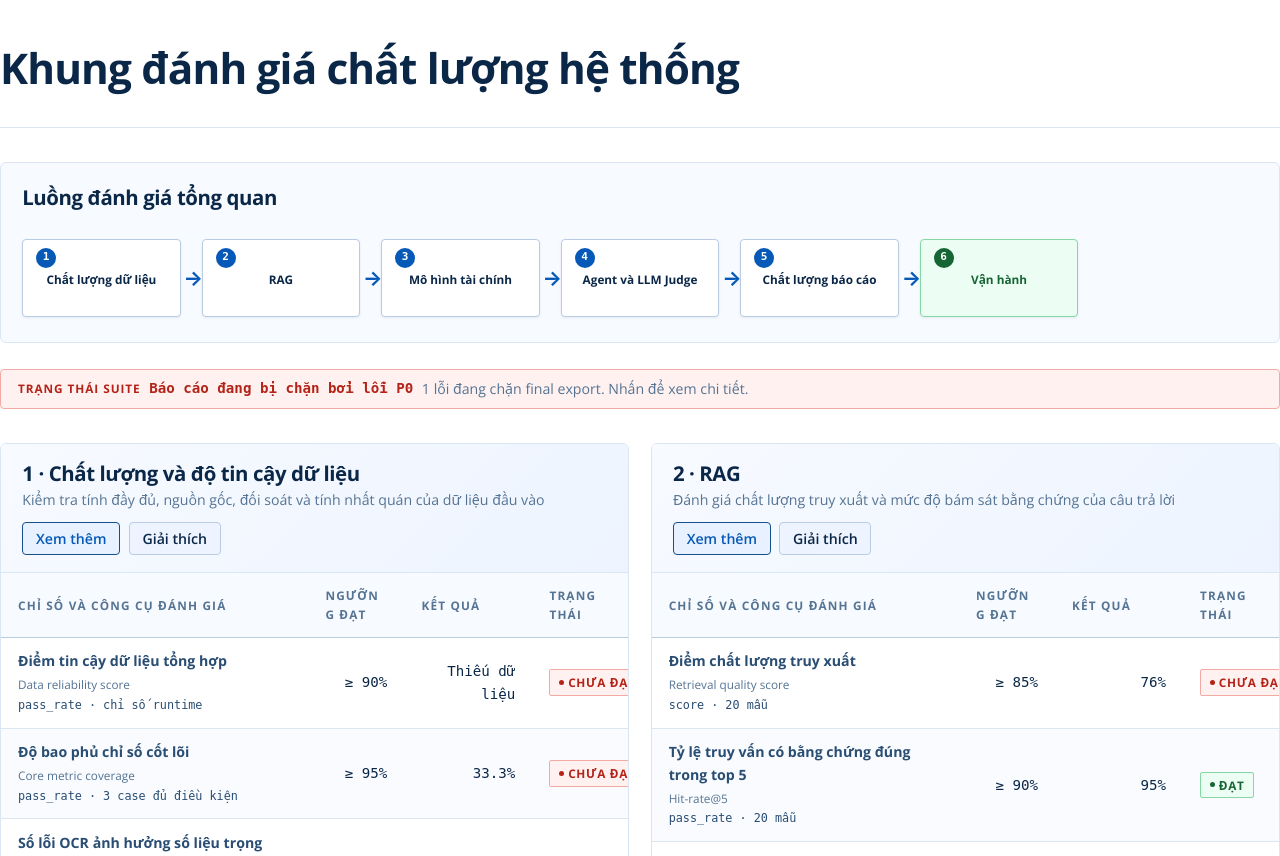
it: EvalDashboardPage › opens a layer benchmark dialog
Expected: the text "Báo cáo đang bị chặn bởi lỗi P0" is shown, [149, 378, 413, 399]
Step 1. Click the button "Xem thêm" below "1 · Chất lượng và độ tin cậy dữ liệu" → (71,539), box [22, 522, 120, 556]
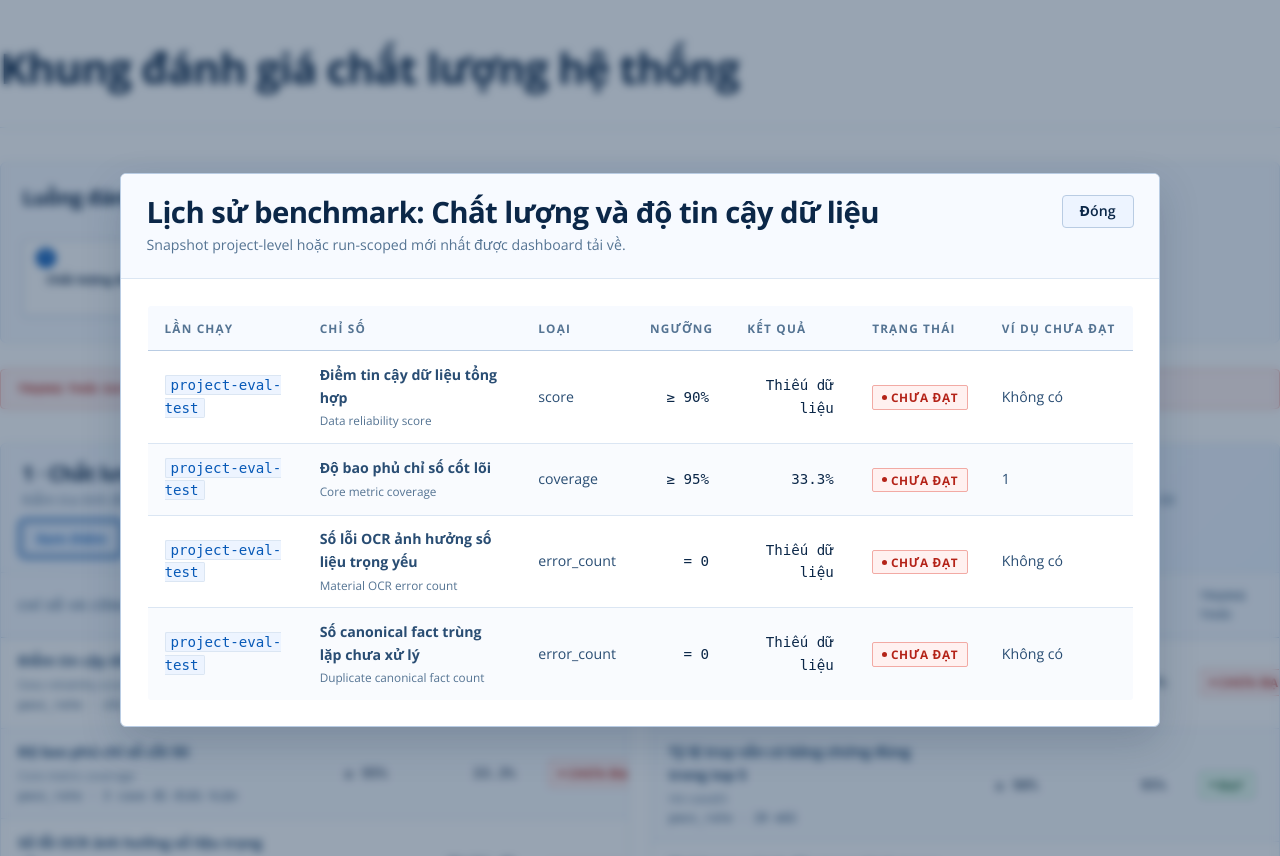
Now the dialog is shown, box [120, 173, 1160, 727]
Now the 1st text "project-eval-test" is shown, box [164, 375, 281, 418]
